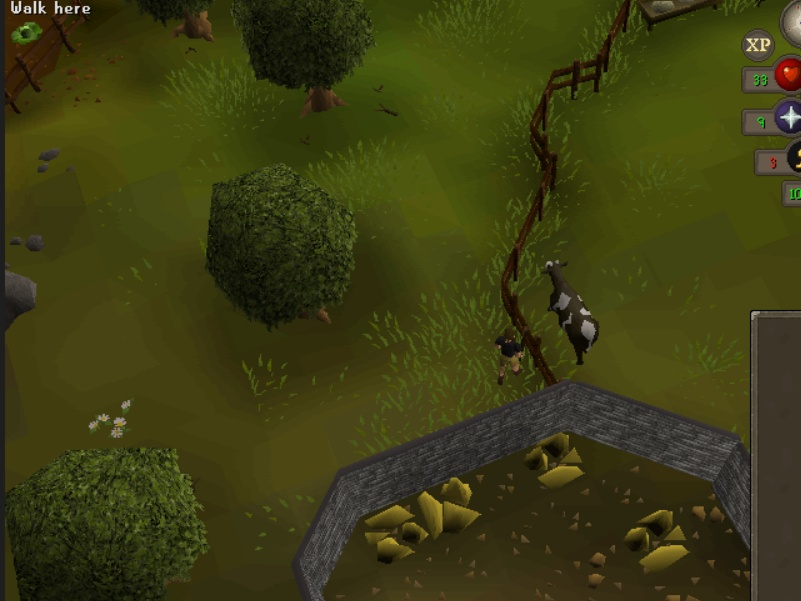gold: (355, 499, 428, 573), (622, 500, 695, 574), (515, 421, 588, 495), (417, 471, 490, 545)
